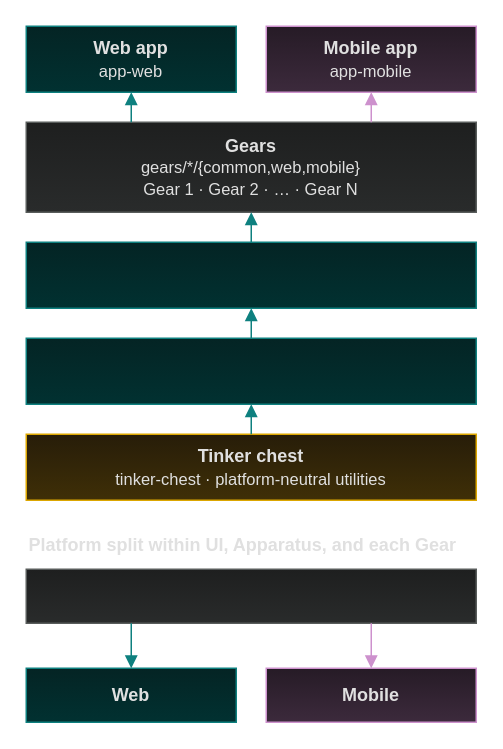
Some shapes in this 503 by 749 pixel diagram are drawn without their labels. Here are the shapes that lost their labels. From the top down, the centre of each, then its label:
At [250,274]: "Apparatus apparatus/{common,web,mobile}".
At [250,370]: "UI ui/{common,web,mobile}".
At [250,595]: "Common · shared logic / API".
